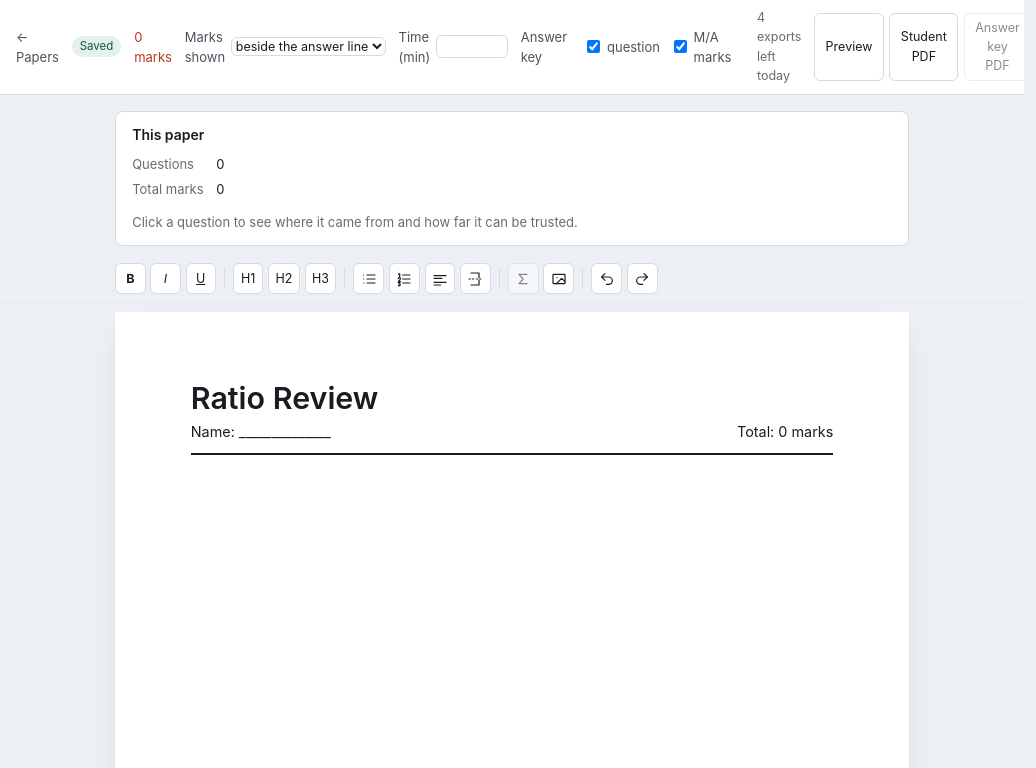
EditorPage export allowance (W3c) › a refused export (429) says when to try again instead of a raw API error
Expected: the field named "Paper title" holds "Ratio Review", [191, 380, 833, 416]
Click the button "Student PDF": [924, 47] box [890, 13, 958, 81]
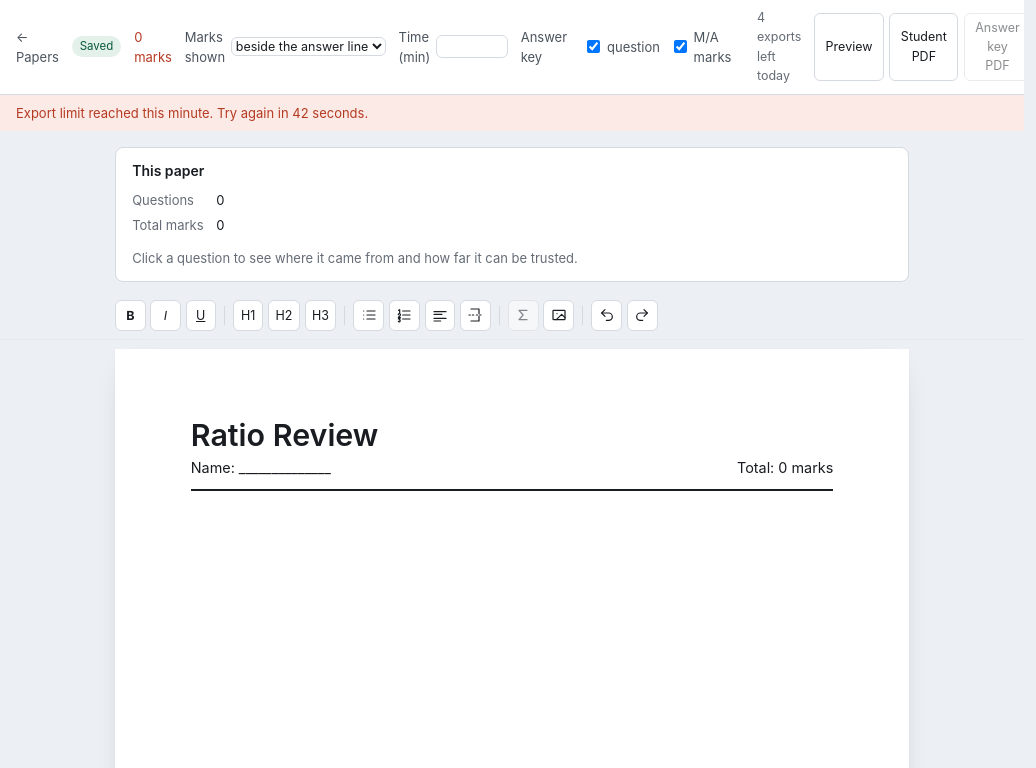
Expected: the message "Export limit reached this minute. Try again in 42 seconds." does not show "API 429", [0, 94, 1024, 131]
Expected: the message "Export limit reached this minute. Try again in 42 seconds." is shown, [0, 94, 1024, 131]
